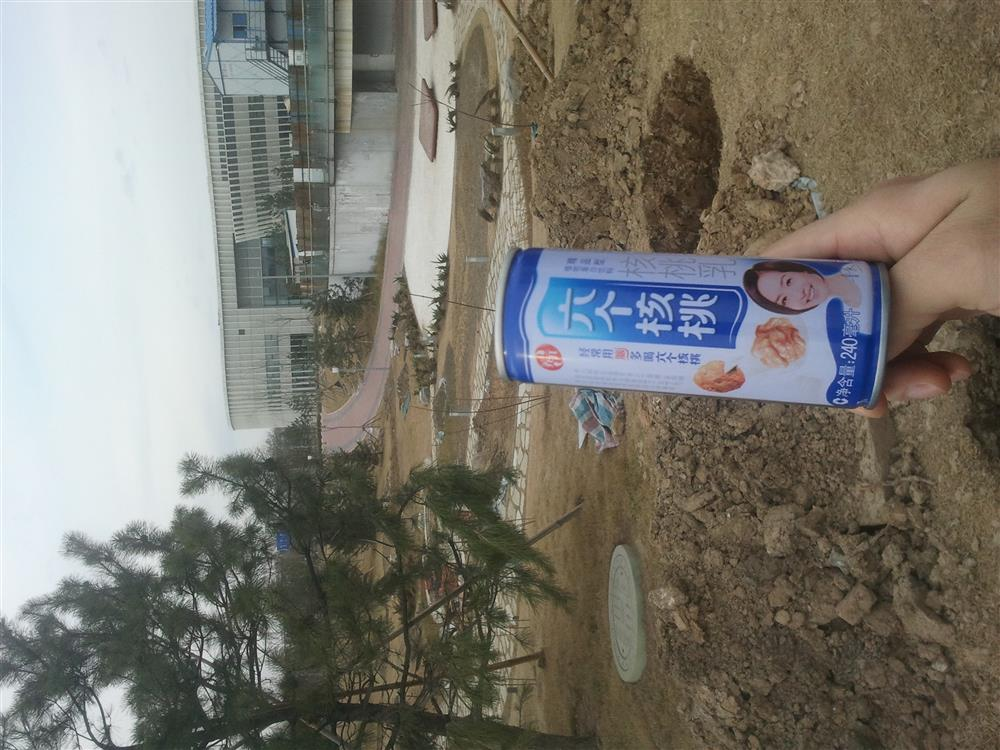Six_walnut: (483, 243, 906, 423)
